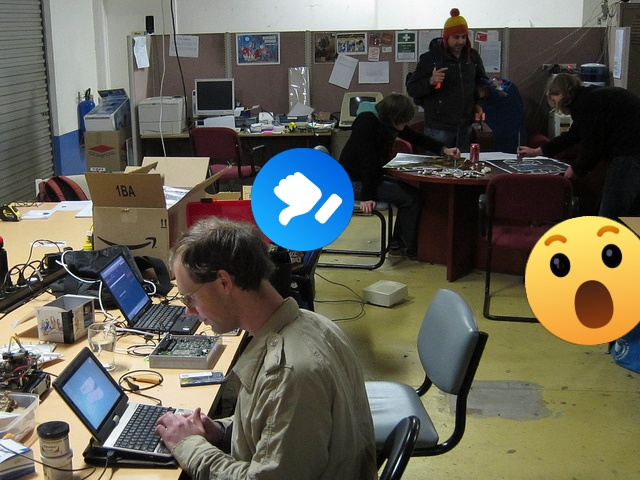like: (251, 148, 354, 251)
wow: (525, 216, 640, 345)
